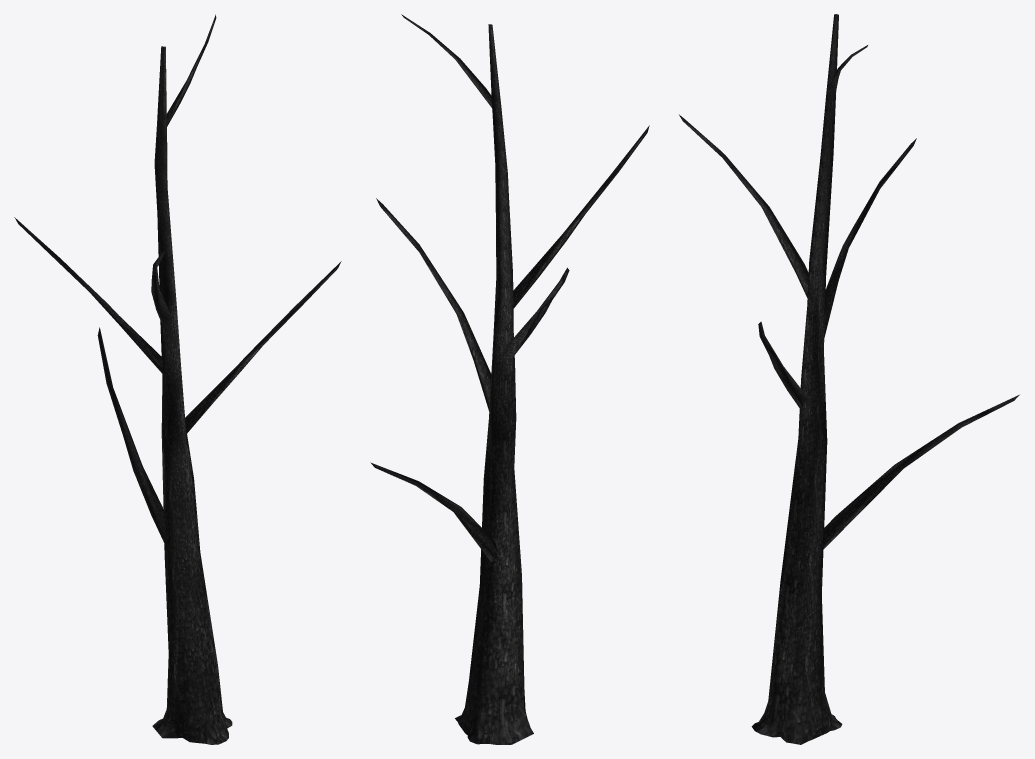
The model's file is tree_9.obj.
3 views of the same model, side by side, from view 1: azimuth 30°, elevation 25°; view 2: azimuth 150°, elevation 25°; view 3: azimuth 270°, elevation 25° (orthographic). The views are drawn at different scales.
Parts seen in each view (by area): view 1: tree_9; view 2: tree_9; view 3: tree_9.
Part boxes in pixels (x1,y1,x2,y2): tree_9: (14, 14, 341, 744); tree_9: (370, 14, 649, 744); tree_9: (679, 14, 1019, 744).
Size of the model in its own units: 1.75 by 4.48 by 1.96.
